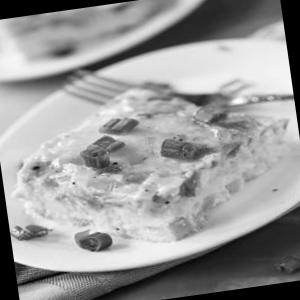omelet: (4, 58, 297, 258)
